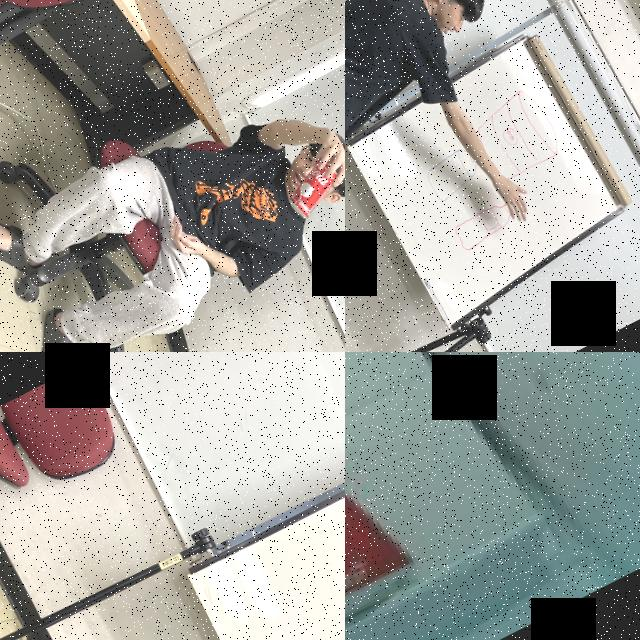can: (276, 154, 345, 223)
